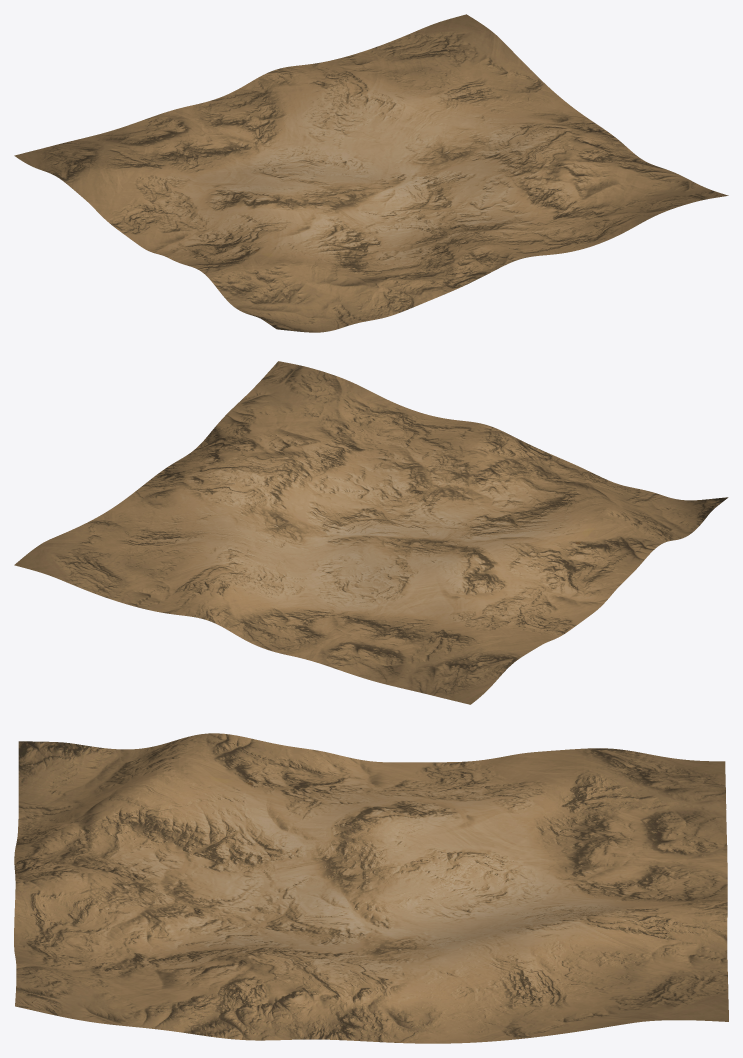
Rendered from terrain.glb.
3 views of the same model, one above another, from view 1: azimuth 30°, elevation 25°; view 2: azimuth 150°, elevation 25°; view 3: azimuth 270°, elevation 25° (orthographic). The views are drawn at different scales.
Parts seen in each view (by area): view 1: group_0_ID4; view 2: group_0_ID4; view 3: group_0_ID4.
Part boxes in pixels (bbox=[...]): group_0_ID4: bbox=[14, 14, 728, 332]; group_0_ID4: bbox=[14, 361, 728, 704]; group_0_ID4: bbox=[14, 733, 728, 1043].
Size of the model in its own units: 121 by 10.79 by 122.
1 material, 1 textured.
